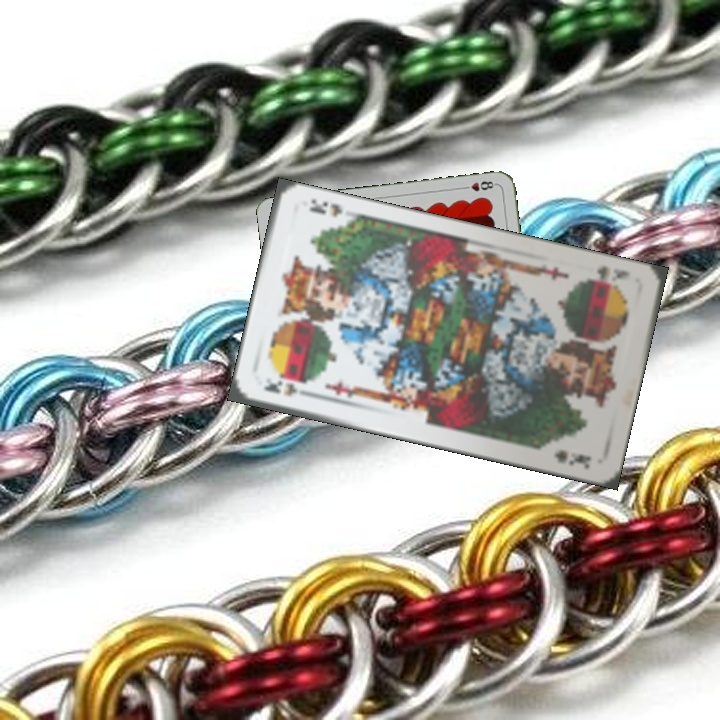H8: (458, 177, 499, 194)
SK: (582, 262, 633, 291), (260, 376, 315, 400)
